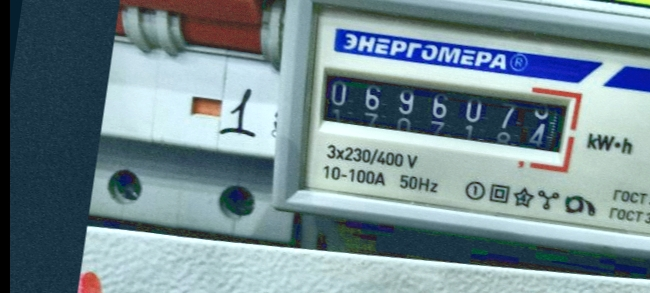0: (462, 96, 484, 128), (328, 81, 349, 111)
4: (526, 120, 547, 152)
6: (362, 84, 383, 115), (429, 92, 450, 123)
7: (495, 102, 518, 135)
9: (394, 89, 416, 119)
screen: (302, 54, 588, 177)
